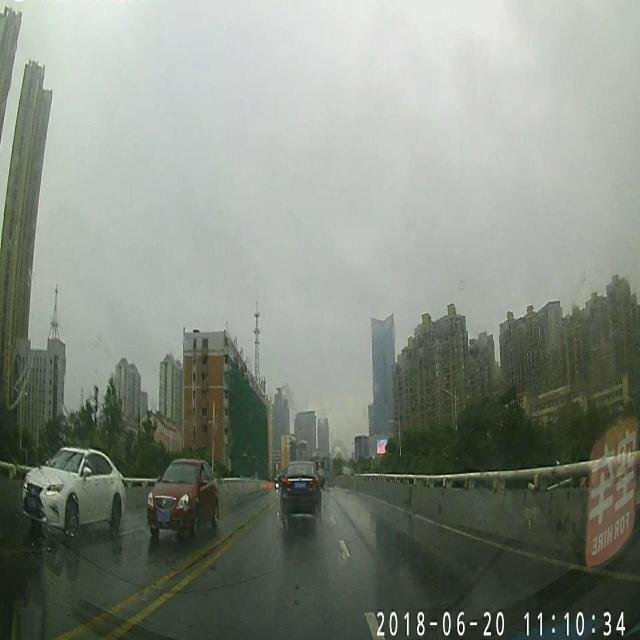car: (21, 446, 125, 540), (148, 460, 219, 538), (280, 458, 322, 520)
